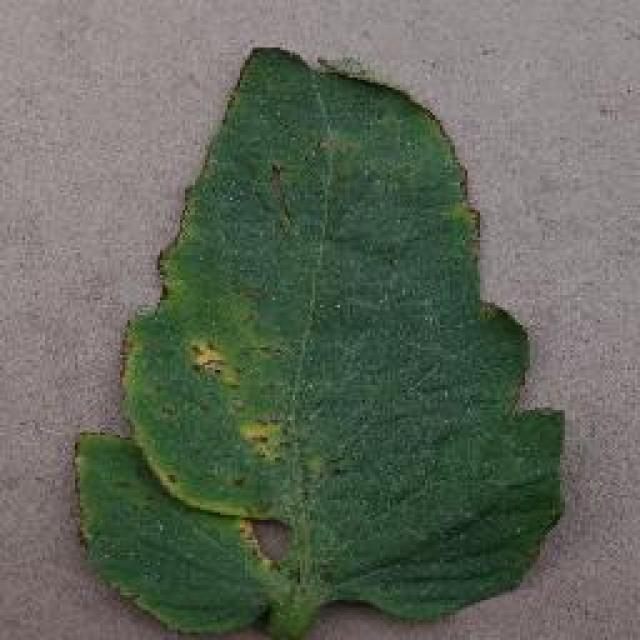Tomato bacterial spot leaf: (68, 41, 573, 640)
